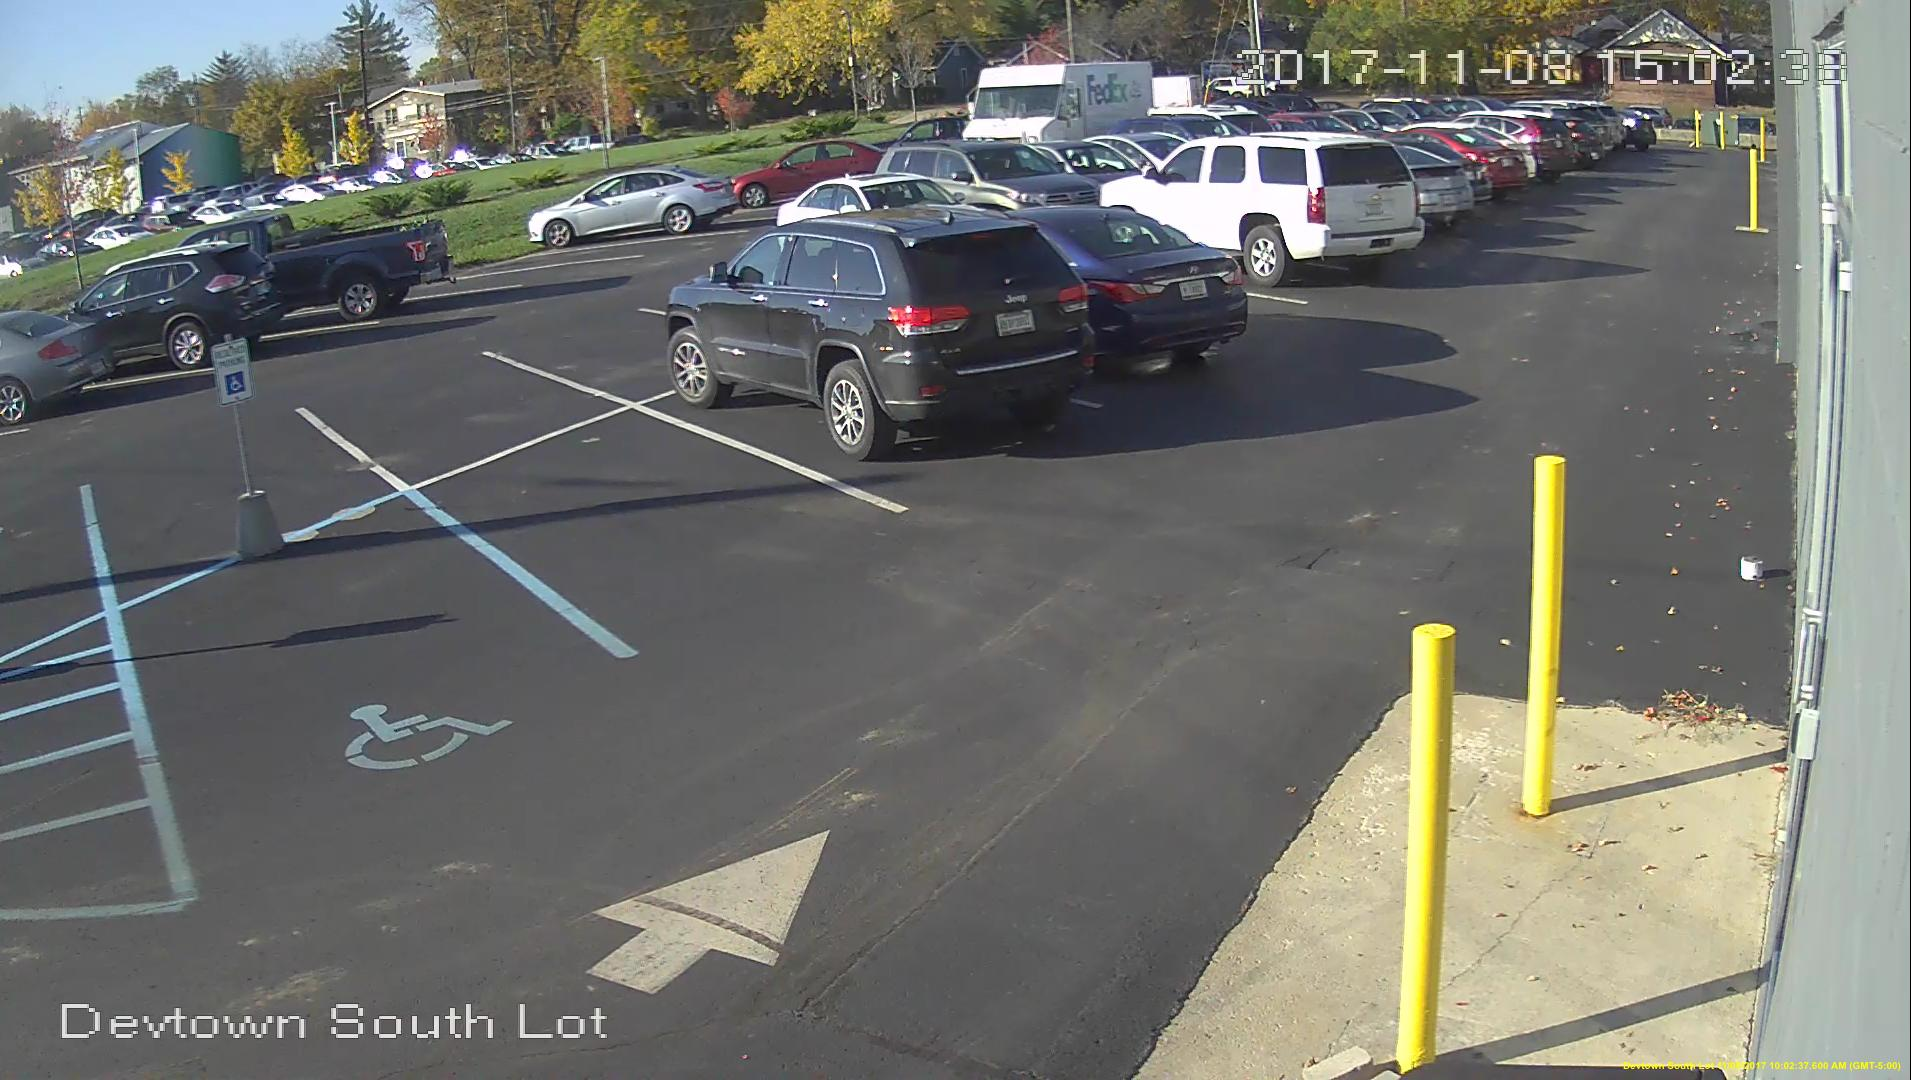fedex_truck: (959, 56, 1159, 150)
